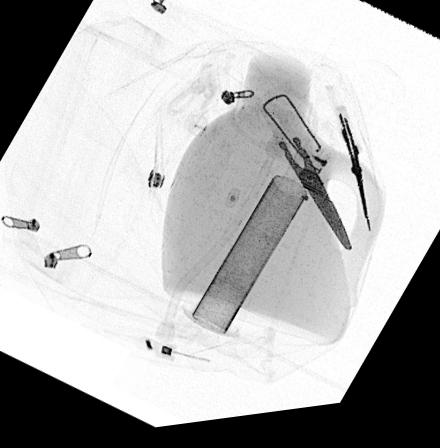Scissors: (230, 92, 355, 262), (323, 90, 373, 243)
